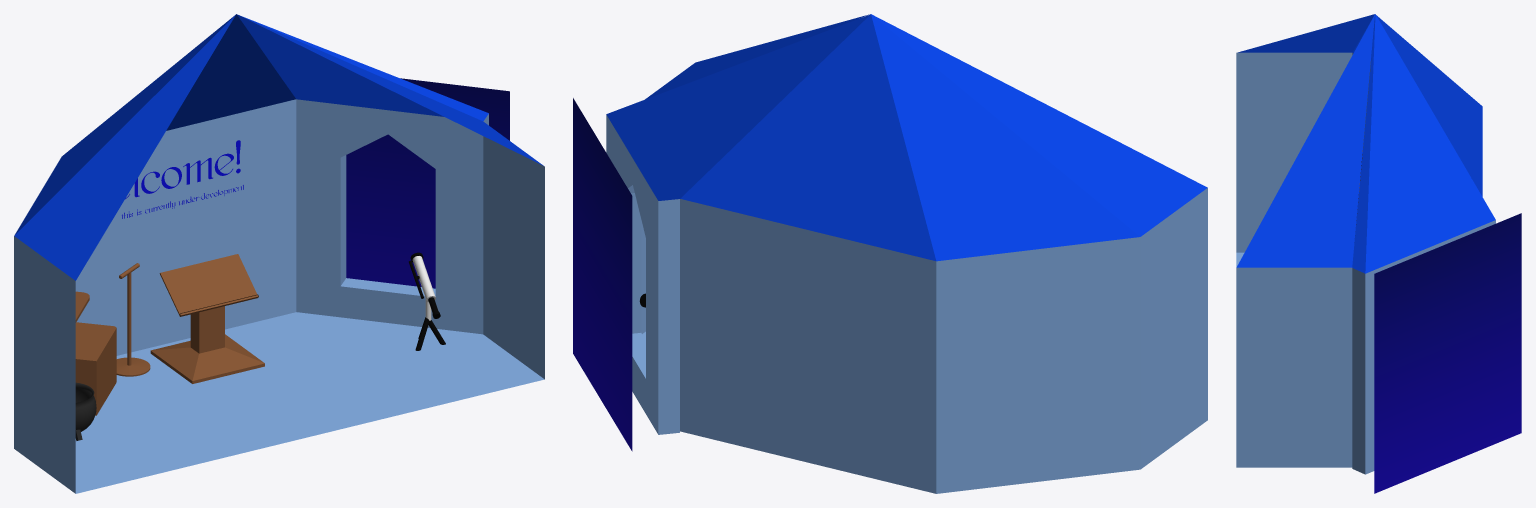
Rendered from room.glb.
3 renders of one model, left to right at view 1: azimuth 30°, elevation 25°; view 2: azimuth 150°, elevation 25°; view 3: azimuth 270°, elevation 25°, orthographic. The views are drawn at different scales.
Parts seen in each view (by area): view 1: room, window, Plane, Book Stand, potion table, telescope, Bird stand, cauldron, Welcome; view 2: room, window, Plane; view 3: room, Plane, window.
Part boxes in pixels (x1,y1,x2,y2): room: [14, 14, 544, 493]; window: [237, 14, 488, 334]; Plane: [346, 78, 509, 288]; Book Stand: [150, 254, 264, 383]; potion table: [75, 291, 116, 415]; telescope: [409, 252, 445, 350]; Bird stand: [116, 263, 150, 376]; cauldron: [75, 382, 96, 440]; Welcome: [125, 140, 240, 199]; room: [641, 14, 1207, 493]; window: [606, 14, 870, 434]; Plane: [573, 98, 632, 451]; room: [1236, 14, 1482, 467]; Plane: [1374, 213, 1521, 493]; window: [1352, 14, 1495, 474].
Bounding box in the file's own units: 21.48 × 15.3 × 11.13.
9 materials, 1 textured.
